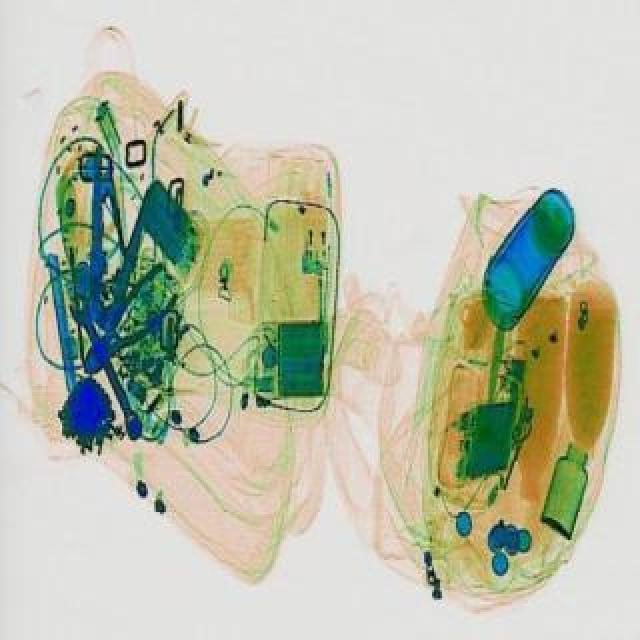scissors: (62, 294, 148, 448)
wrench: (66, 262, 194, 390), (66, 174, 152, 340)
